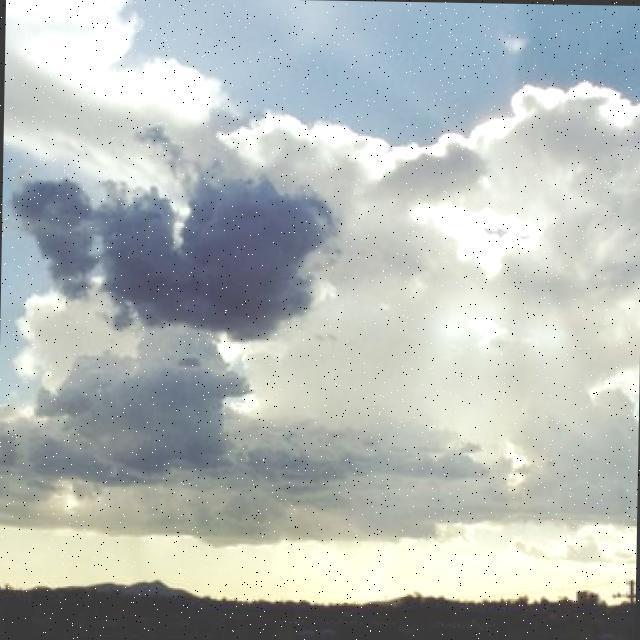Cu: (1, 52, 640, 485)
